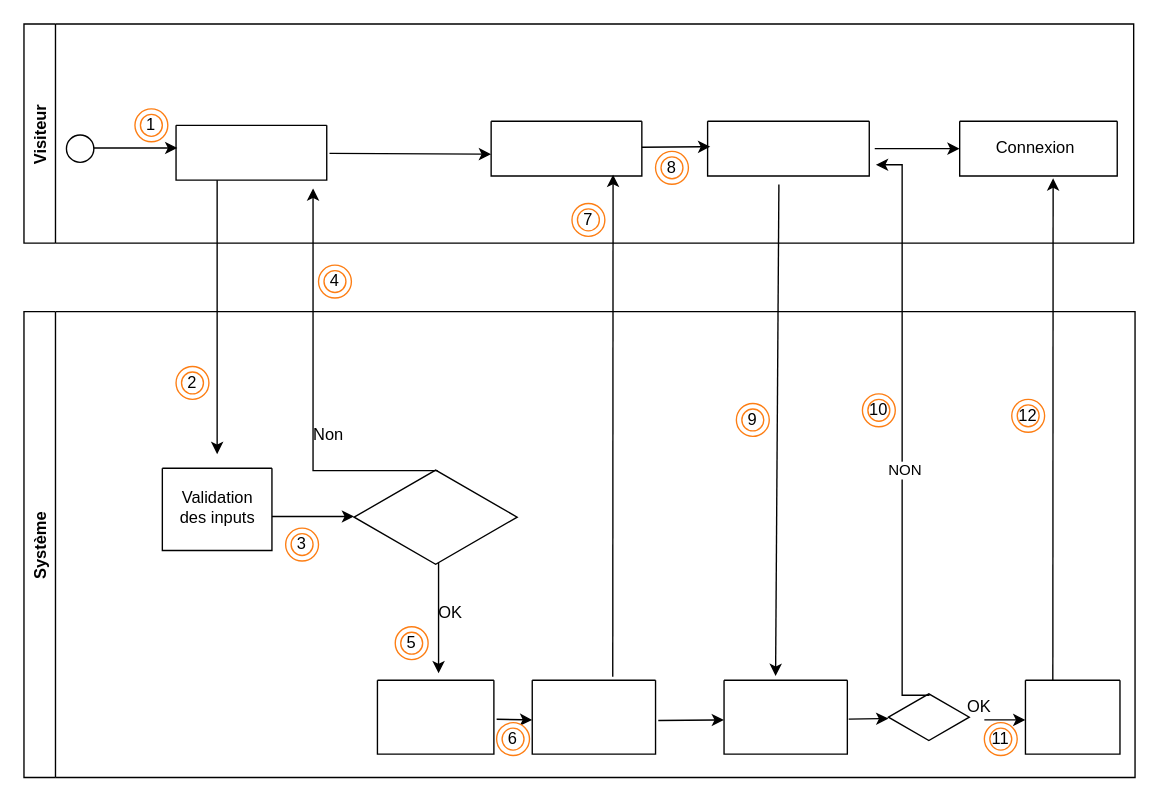
This 1159x801 diagram has some shape labels left out. The centre of each missing label's shape, as x and y in pixels:
Activation compte: point (1072, 716)
Confirmation OTP: point (787, 148)
Création de compte: point (435, 716)
Création profil: point (593, 716)
Message OTP: point (566, 148)
Remplir formulaire: point (251, 152)
Valider: point (785, 716)
Vérification email ou phone: point (435, 516)
